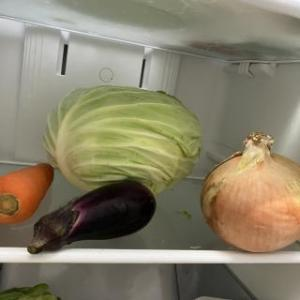cabbage: (42, 84, 203, 202)
carrot: (0, 162, 56, 228)
eggplant: (26, 179, 160, 256)
onion: (200, 132, 300, 256)
